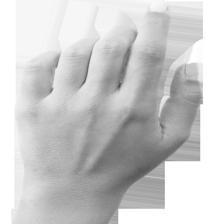Ladder: (49, 8, 189, 221)
